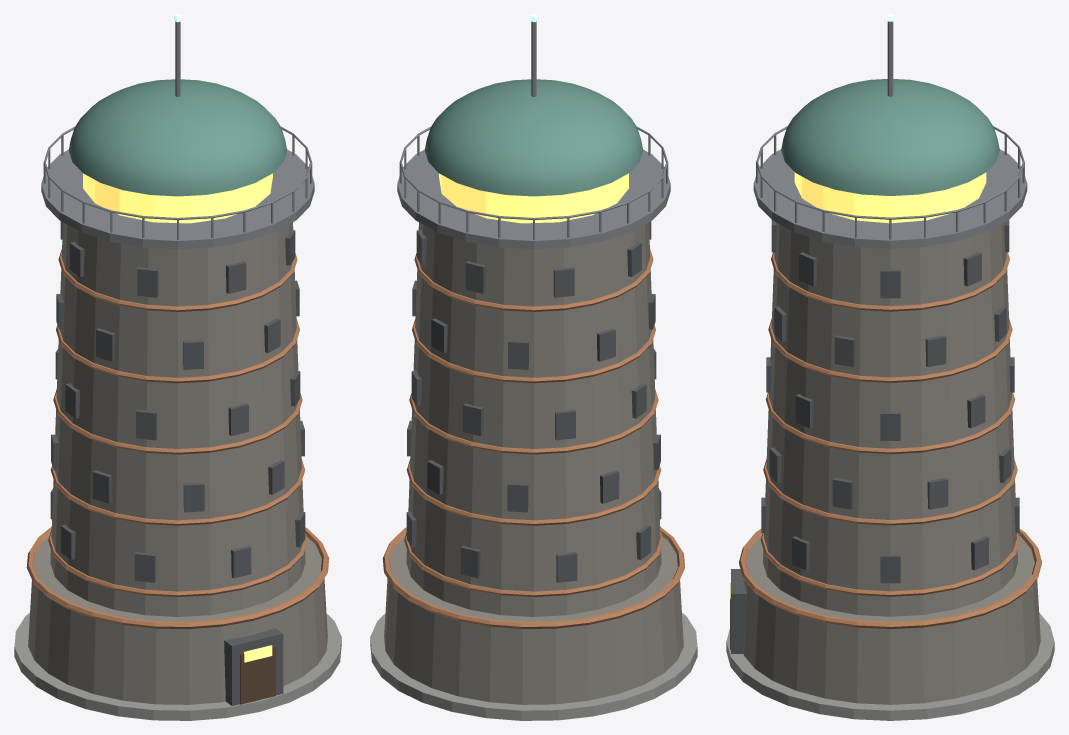
Rendered from tion_tower.glb.
3 views of the same model, side by side, from view 1: azimuth 30°, elevation 25°; view 2: azimuth 150°, elevation 25°; view 3: azimuth 270°, elevation 25° (orthographic).
Visible parts, largest first — view 1: tion_tower; view 2: tion_tower; view 3: tion_tower.
Part boxes in pixels (x1,y1,x2,y2): tion_tower: (14,14,341,720); tion_tower: (370,14,697,720); tion_tower: (726,14,1054,720).
Bounding box in the file's own units: 14.4 × 30.83 × 14.4.
